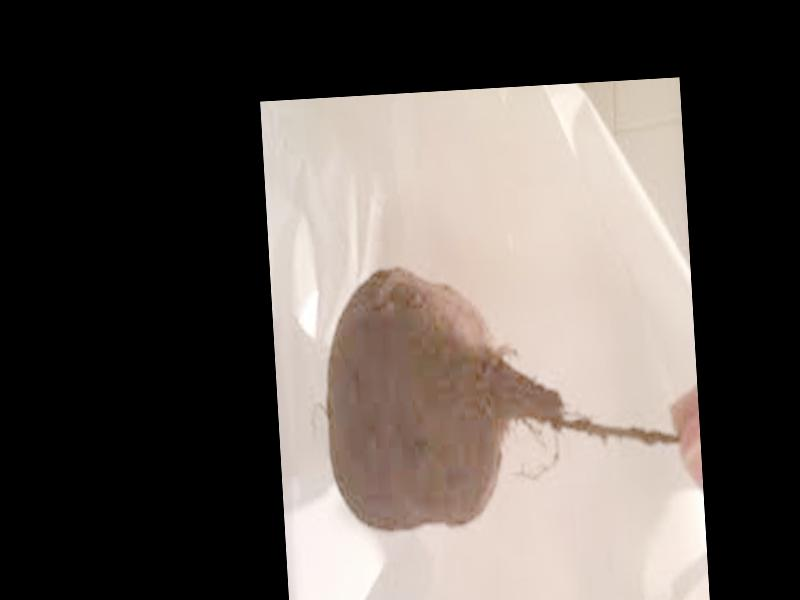Beet: (318, 249, 688, 534)
